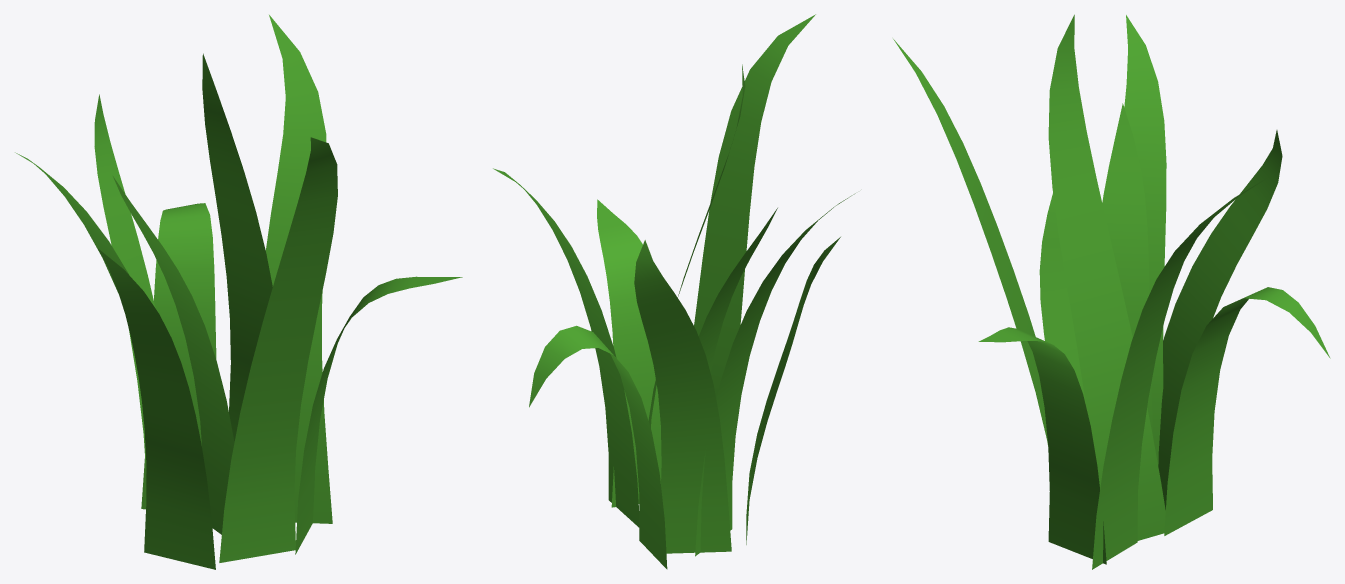
File: GrassBush1.fbx
3 renders of one model, left to right at view 1: azimuth 30°, elevation 25°; view 2: azimuth 150°, elevation 25°; view 3: azimuth 270°, elevation 25°, orthographic. The views are drawn at different scales.
Visible parts, largest first — view 1: GrassBush1; view 2: GrassBush1; view 3: GrassBush1.
Boxes of the visible parts, x1,y1,x2,y2 form: GrassBush1: [15, 15, 462, 569]; GrassBush1: [493, 14, 855, 569]; GrassBush1: [893, 14, 1330, 569].
Bounding box in the file's own units: 18.35 × 24.32 × 19.51.
